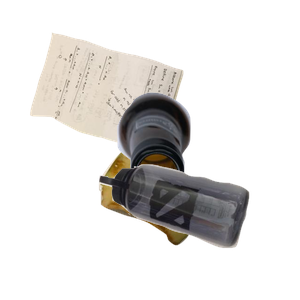glass: (115, 90, 300, 270)
paper: (27, 30, 203, 178)
plastic: (97, 162, 300, 300)
trash: (96, 145, 295, 300)
